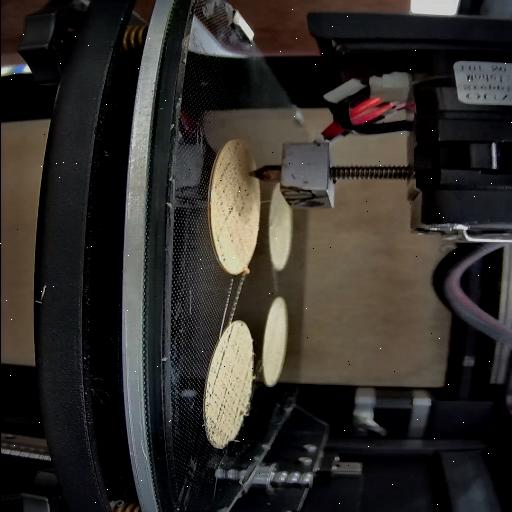under_extrusion: (206, 348, 246, 436), (216, 142, 256, 224), (208, 234, 232, 264), (222, 321, 236, 347)
